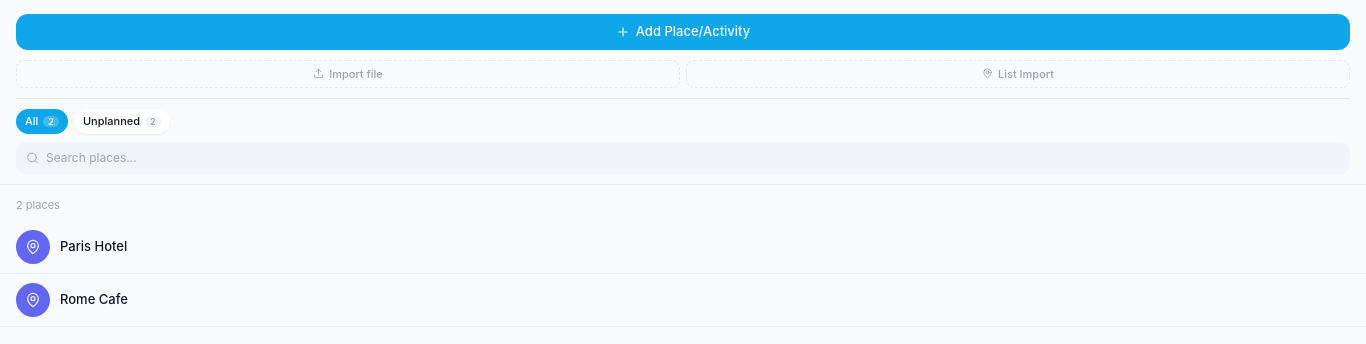
Test case: Search › FE-PLANNER-SIDEBAR-021: clear search (X) button appears and resets search
Type "Paris" into the field with placeholder "Search places..." at [683, 158], box [16,142,1350,174]
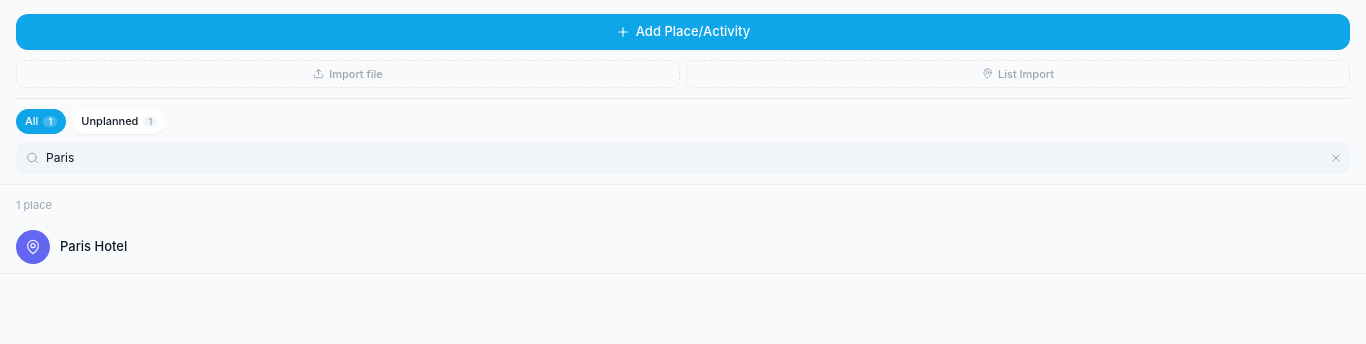
Expected: the text "Rome Cafe" is gone
Expected: the 6th button is shown
Click the 6th button at [1336, 158], box [1330,152,1342,164]
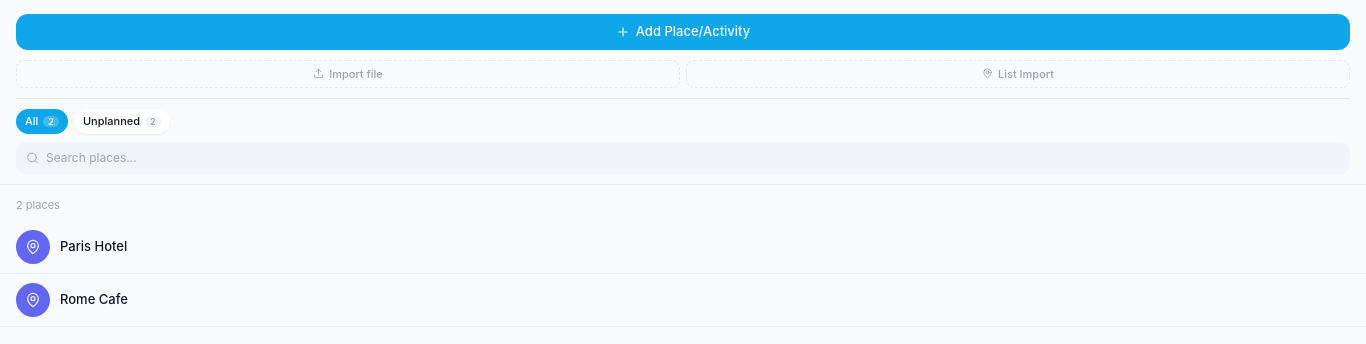
Expected: the text "Rome Cafe" is shown, [60,292,128,307]
